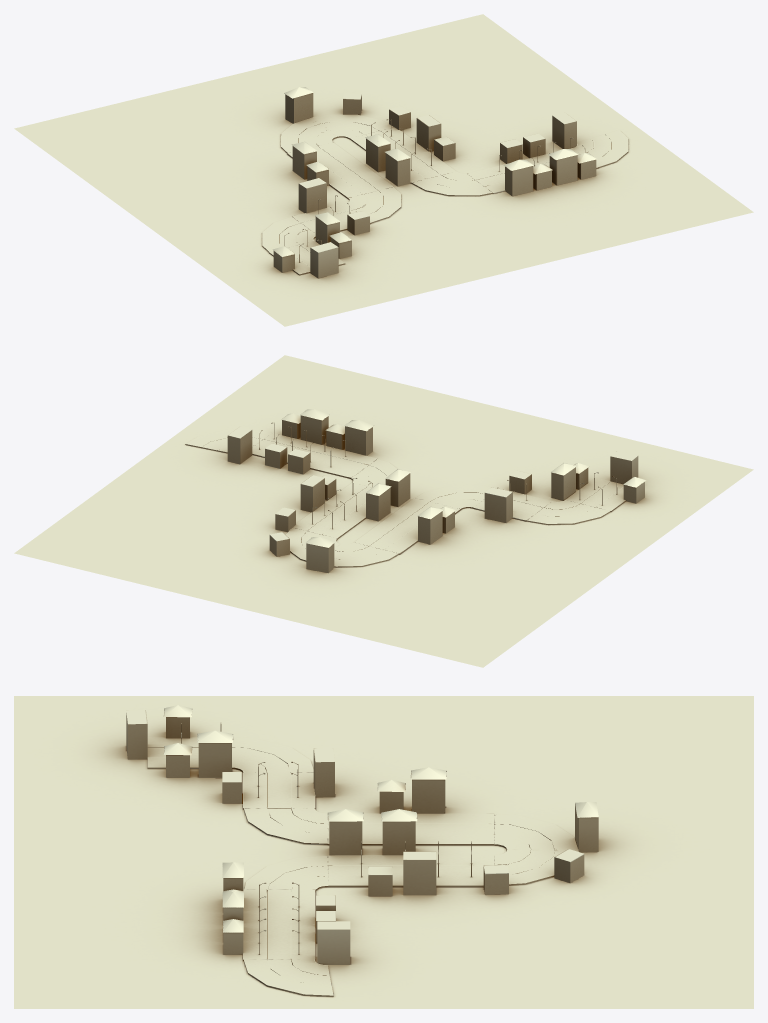
File: WaveOfDemocracy_baked.fbx
The picture shows the model from 3 angles, top to bottom: view 1: azimuth 30°, elevation 25°; view 2: azimuth 150°, elevation 25°; view 3: azimuth 270°, elevation 25°; orthographic projection. The views are drawn at different scales.
Visible parts, largest first — view 1: Ground, Road1_3 (×5), Road1, big_building9, big_building10, big_building2, big_building1, big_building5, big_building7, big_building, big_building3, big_building4; view 2: Ground, Road1_3 (×3), big_building10, Road1, Road2, big_building2, big_building9, big_building7, big_building5, big_building1, big_building, big_building6 (+3 smaller); view 3: Ground, Road1_3 (×5), Road2_1 (×5), Road2_3 (×5), Road1_2 (×5), Road2_2 (×4), Road2, Road1, big_building7, big_building2, big_building3, big_building6 (+11 smaller).
Part boxes in pixels (box(x1,y1,x2,y2)): Ground: box(14, 14, 753, 326); Road1_3 (×5): box(262, 114, 492, 252); Road1: box(572, 130, 628, 167); big_building9: box(310, 242, 338, 278); big_building10: box(298, 178, 326, 213); big_building2: box(552, 112, 576, 148); big_building1: box(505, 166, 533, 196); big_building5: box(285, 93, 313, 123); big_building7: box(416, 115, 441, 152); big_building: box(549, 155, 577, 185); big_building3: box(385, 153, 410, 186); big_building4: box(366, 138, 390, 172); Ground: box(14, 355, 753, 667); Road1_3 (×3): box(334, 485, 610, 567); big_building10: box(484, 487, 512, 522); Road1: box(185, 429, 271, 453); Road2: box(252, 433, 324, 463); big_building2: box(227, 426, 252, 464); big_building9: box(610, 451, 638, 484); big_building7: box(300, 475, 324, 512); big_building5: box(306, 543, 334, 573); big_building1: box(345, 426, 372, 455); big_building: box(300, 415, 328, 444); big_building6: box(418, 511, 442, 544); Ground: box(14, 696, 753, 1008); Road1_3 (×5): box(232, 737, 578, 893); Road2_1 (×5): box(291, 773, 494, 924); Road2_3 (×5): box(243, 773, 494, 924); Road1_2 (×5): box(232, 747, 554, 889); Road2_2 (×4): box(267, 773, 494, 924); Road2: box(243, 924, 315, 960); Road1: box(242, 957, 333, 996); big_building7: box(403, 851, 436, 895); big_building2: box(317, 921, 350, 964); big_building3: box(329, 821, 362, 855); big_building6: box(412, 779, 445, 813).
Size of the model in its own units: 753 by 50.22 by 753.
